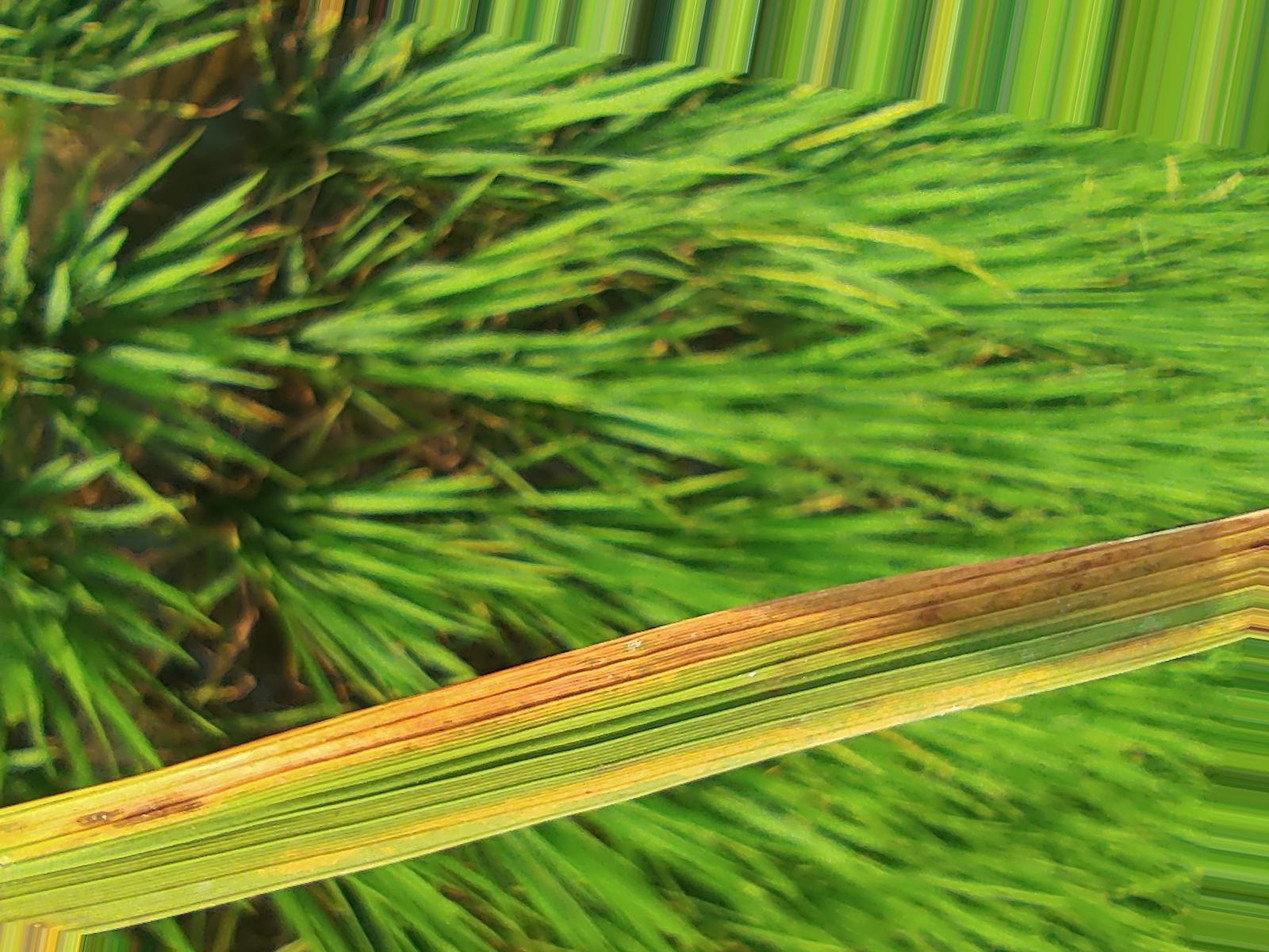LEAF: (0, 509, 1268, 931)
NBS: (114, 800, 204, 827), (847, 693, 886, 717), (767, 718, 810, 736), (77, 810, 120, 825), (26, 918, 53, 932), (579, 785, 598, 797)
